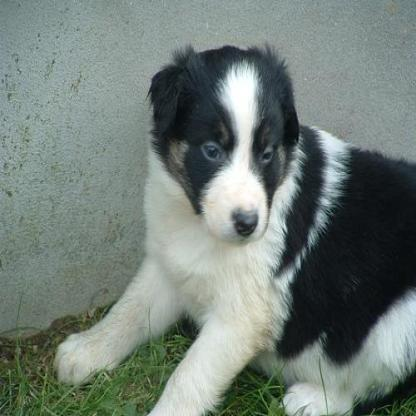collie: (53, 44, 414, 414)
